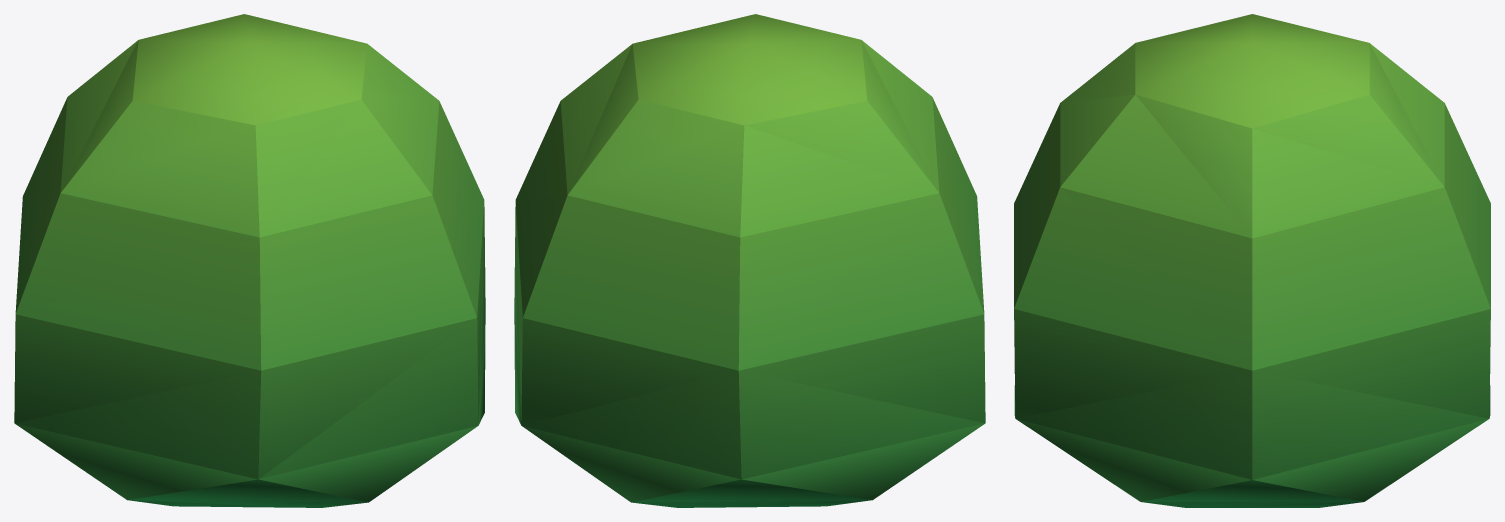
File: kf_bush_1_a.fbx
3 renders of one model, left to right at view 1: azimuth 30°, elevation 25°; view 2: azimuth 150°, elevation 25°; view 3: azimuth 270°, elevation 25°, orthographic.
Parts seen in each view (by area): view 1: kf_bush_1_a; view 2: kf_bush_1_a; view 3: kf_bush_1_a.
Boxes of the visible parts, left/top/right/bottom form: kf_bush_1_a: left=14, top=14, right=485, bottom=507; kf_bush_1_a: left=514, top=14, right=985, bottom=507; kf_bush_1_a: left=1014, top=14, right=1490, bottom=507.
Bounding box in the file's own units: 0.4275 × 0.3626 × 0.3745.
